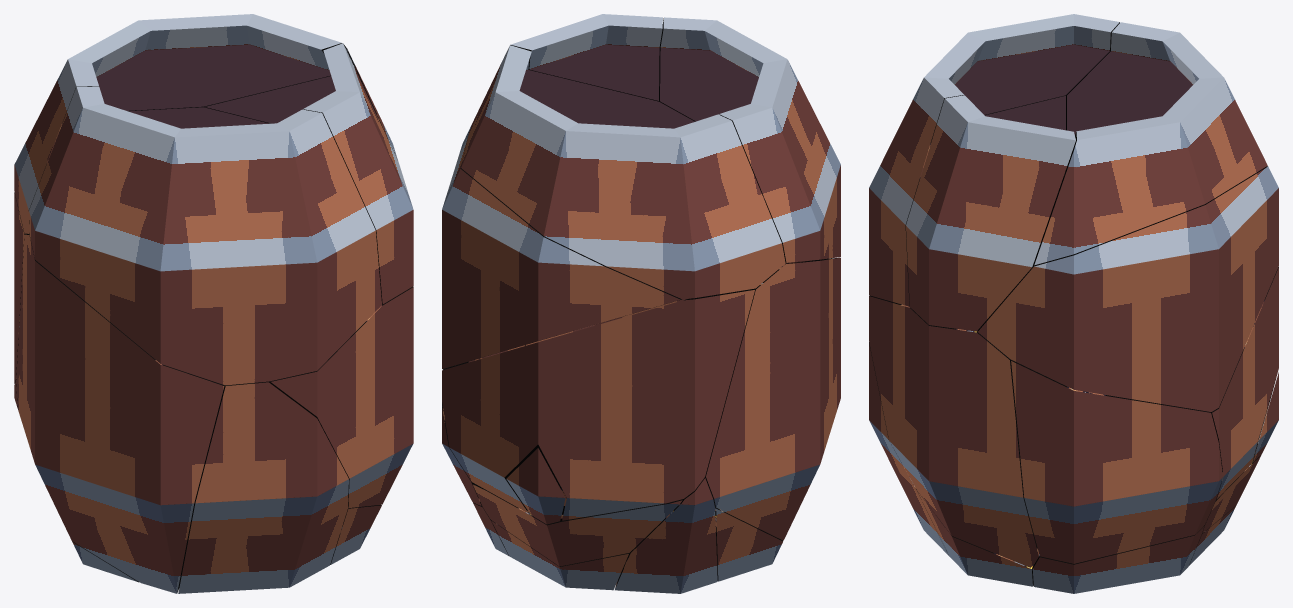
File: barrel-fragmented.glb
3 views of the same model, side by side, from view 1: azimuth 30°, elevation 25°; view 2: azimuth 150°, elevation 25°; view 3: azimuth 270°, elevation 25° (orthographic).
Parts seen in each view (by area): view 1: Barrel-frag-01-rigid, Barrel-frag-04-rigid, Barrel-frag-13-rigid, Barrel-frag-15-rigid, Barrel-frag-07-rigid, Barrel-frag-12-rigid, Barrel-frag-14-rigid, Barrel-frag-10-rigid, Barrel-frag-03-rigid; view 2: Barrel-frag-15-rigid, Barrel-frag-10-rigid, Barrel-frag-04-rigid, Barrel-frag-11-rigid, Barrel-frag-01-rigid, Barrel-frag-12-rigid, Barrel-frag-06-rigid, Barrel-frag-08-rigid, Barrel-frag-03-rigid, Barrel-frag-05-rigid, Barrel-frag-16-rigid, Barrel-frag-02-rigid; view 3: Barrel-frag-11-rigid, Barrel-frag-15-rigid, Barrel-frag-02-rigid, Barrel-frag-12-rigid, Barrel-frag-07-rigid, Barrel-frag-01-rigid, Barrel-frag-10-rigid, Barrel-frag-09-rigid, Barrel-frag-14-rigid, Barrel-frag-13-rigid, Barrel-frag-08-rigid, Barrel-frag-16-rigid (+1 smaller).
Boxes of the visible parts, <box> form: Barrel-frag-01-rigid: <box>29,86,381,385</box>; Barrel-frag-04-rigid: <box>16,234,225,593</box>; Barrel-frag-13-rigid: <box>178,382,348,593</box>; Barrel-frag-15-rigid: <box>14,14,397,234</box>; Barrel-frag-07-rigid: <box>266,286,413,508</box>; Barrel-frag-12-rigid: <box>205,43,413,304</box>; Barrel-frag-14-rigid: <box>330,505,381,564</box>; Barrel-frag-10-rigid: <box>14,192,27,383</box>; Barrel-frag-03-rigid: <box>72,541,138,582</box>; Barrel-frag-15-rigid: <box>461,45,785,299</box>; Barrel-frag-10-rigid: <box>442,289,754,520</box>; Barrel-frag-04-rigid: <box>705,257,840,540</box>; Barrel-frag-11-rigid: <box>442,129,681,369</box>; Barrel-frag-01-rigid: <box>659,17,840,262</box>; Barrel-frag-12-rigid: <box>510,14,662,101</box>; Barrel-frag-06-rigid: <box>614,477,717,593</box>; Barrel-frag-08-rigid: <box>473,483,682,566</box>; Barrel-frag-03-rigid: <box>715,507,782,581</box>; Barrel-frag-05-rigid: <box>491,520,629,590</box>; Barrel-frag-16-rigid: <box>506,448,565,524</box>; Barrel-frag-02-rigid: <box>442,345,525,505</box>; Barrel-frag-11-rigid: <box>977,166,1278,411</box>; Barrel-frag-15-rigid: <box>1033,22,1267,265</box>; Barrel-frag-02-rigid: <box>1011,360,1222,563</box>; Barrel-frag-12-rigid: <box>906,95,1075,331</box>; Barrel-frag-07-rigid: <box>869,295,1039,567</box>; Barrel-frag-01-rigid: <box>869,14,1119,306</box>; Barrel-frag-10-rigid: <box>1210,267,1278,499</box>; Barrel-frag-09-rigid: <box>1032,525,1204,593</box>; Barrel-frag-14-rigid: <box>916,489,1034,586</box>; Barrel-frag-13-rigid: <box>869,342,948,555</box>; Barrel-frag-08-rigid: <box>1202,444,1261,533</box>; Barrel-frag-16-rigid: <box>1253,372,1278,461</box>.
Size of the model in its own units: 0.8198 by 1 by 0.8198.
1 material, 1 textured.
